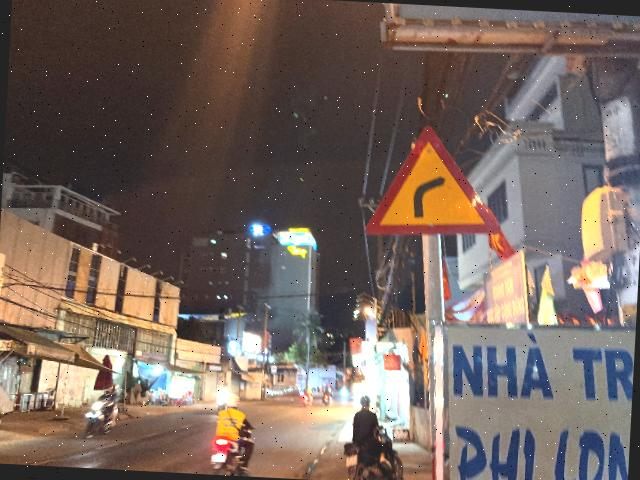cho-ngoat-nguy-hiem-ben-phai: (366, 122, 508, 242)
